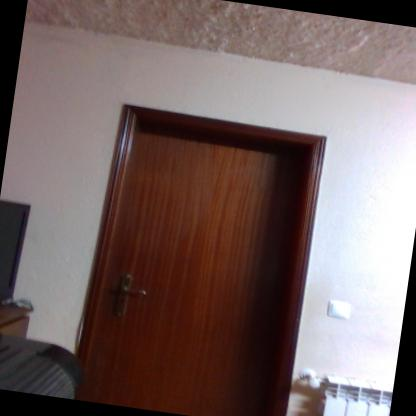closed: (61, 83, 340, 415)
